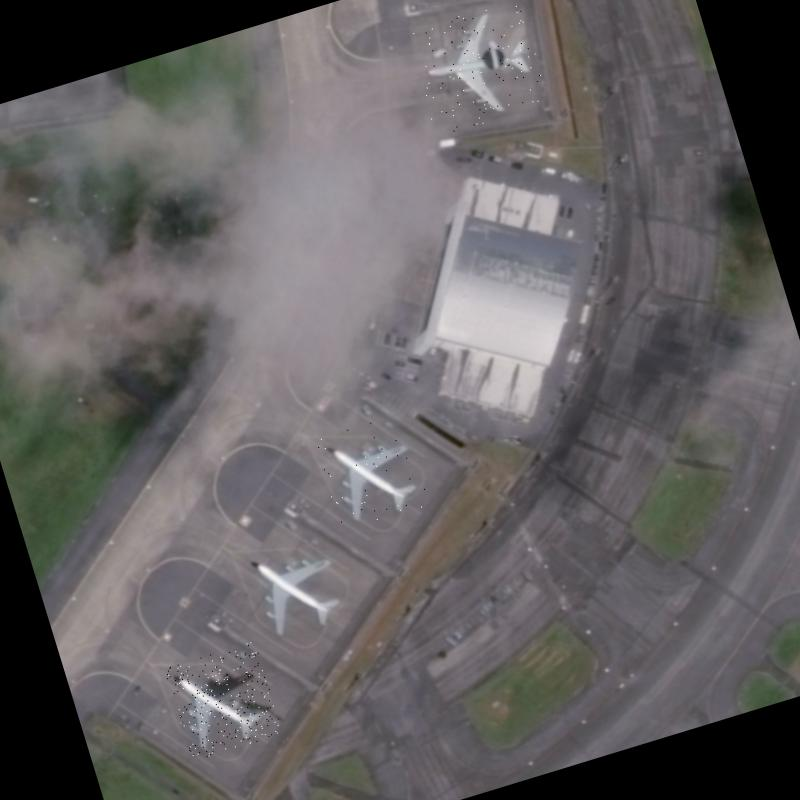A11: (165, 640, 284, 762), (312, 411, 430, 533), (238, 528, 355, 650)
A7: (404, 0, 551, 137)
